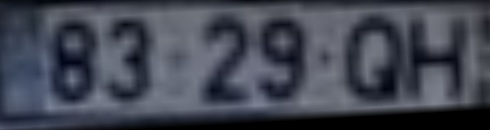2: (197, 14, 259, 113)
3: (104, 16, 158, 111)
8: (45, 19, 105, 112)
9: (256, 16, 316, 110)
H: (404, 17, 470, 105)
Q: (341, 13, 408, 110)
